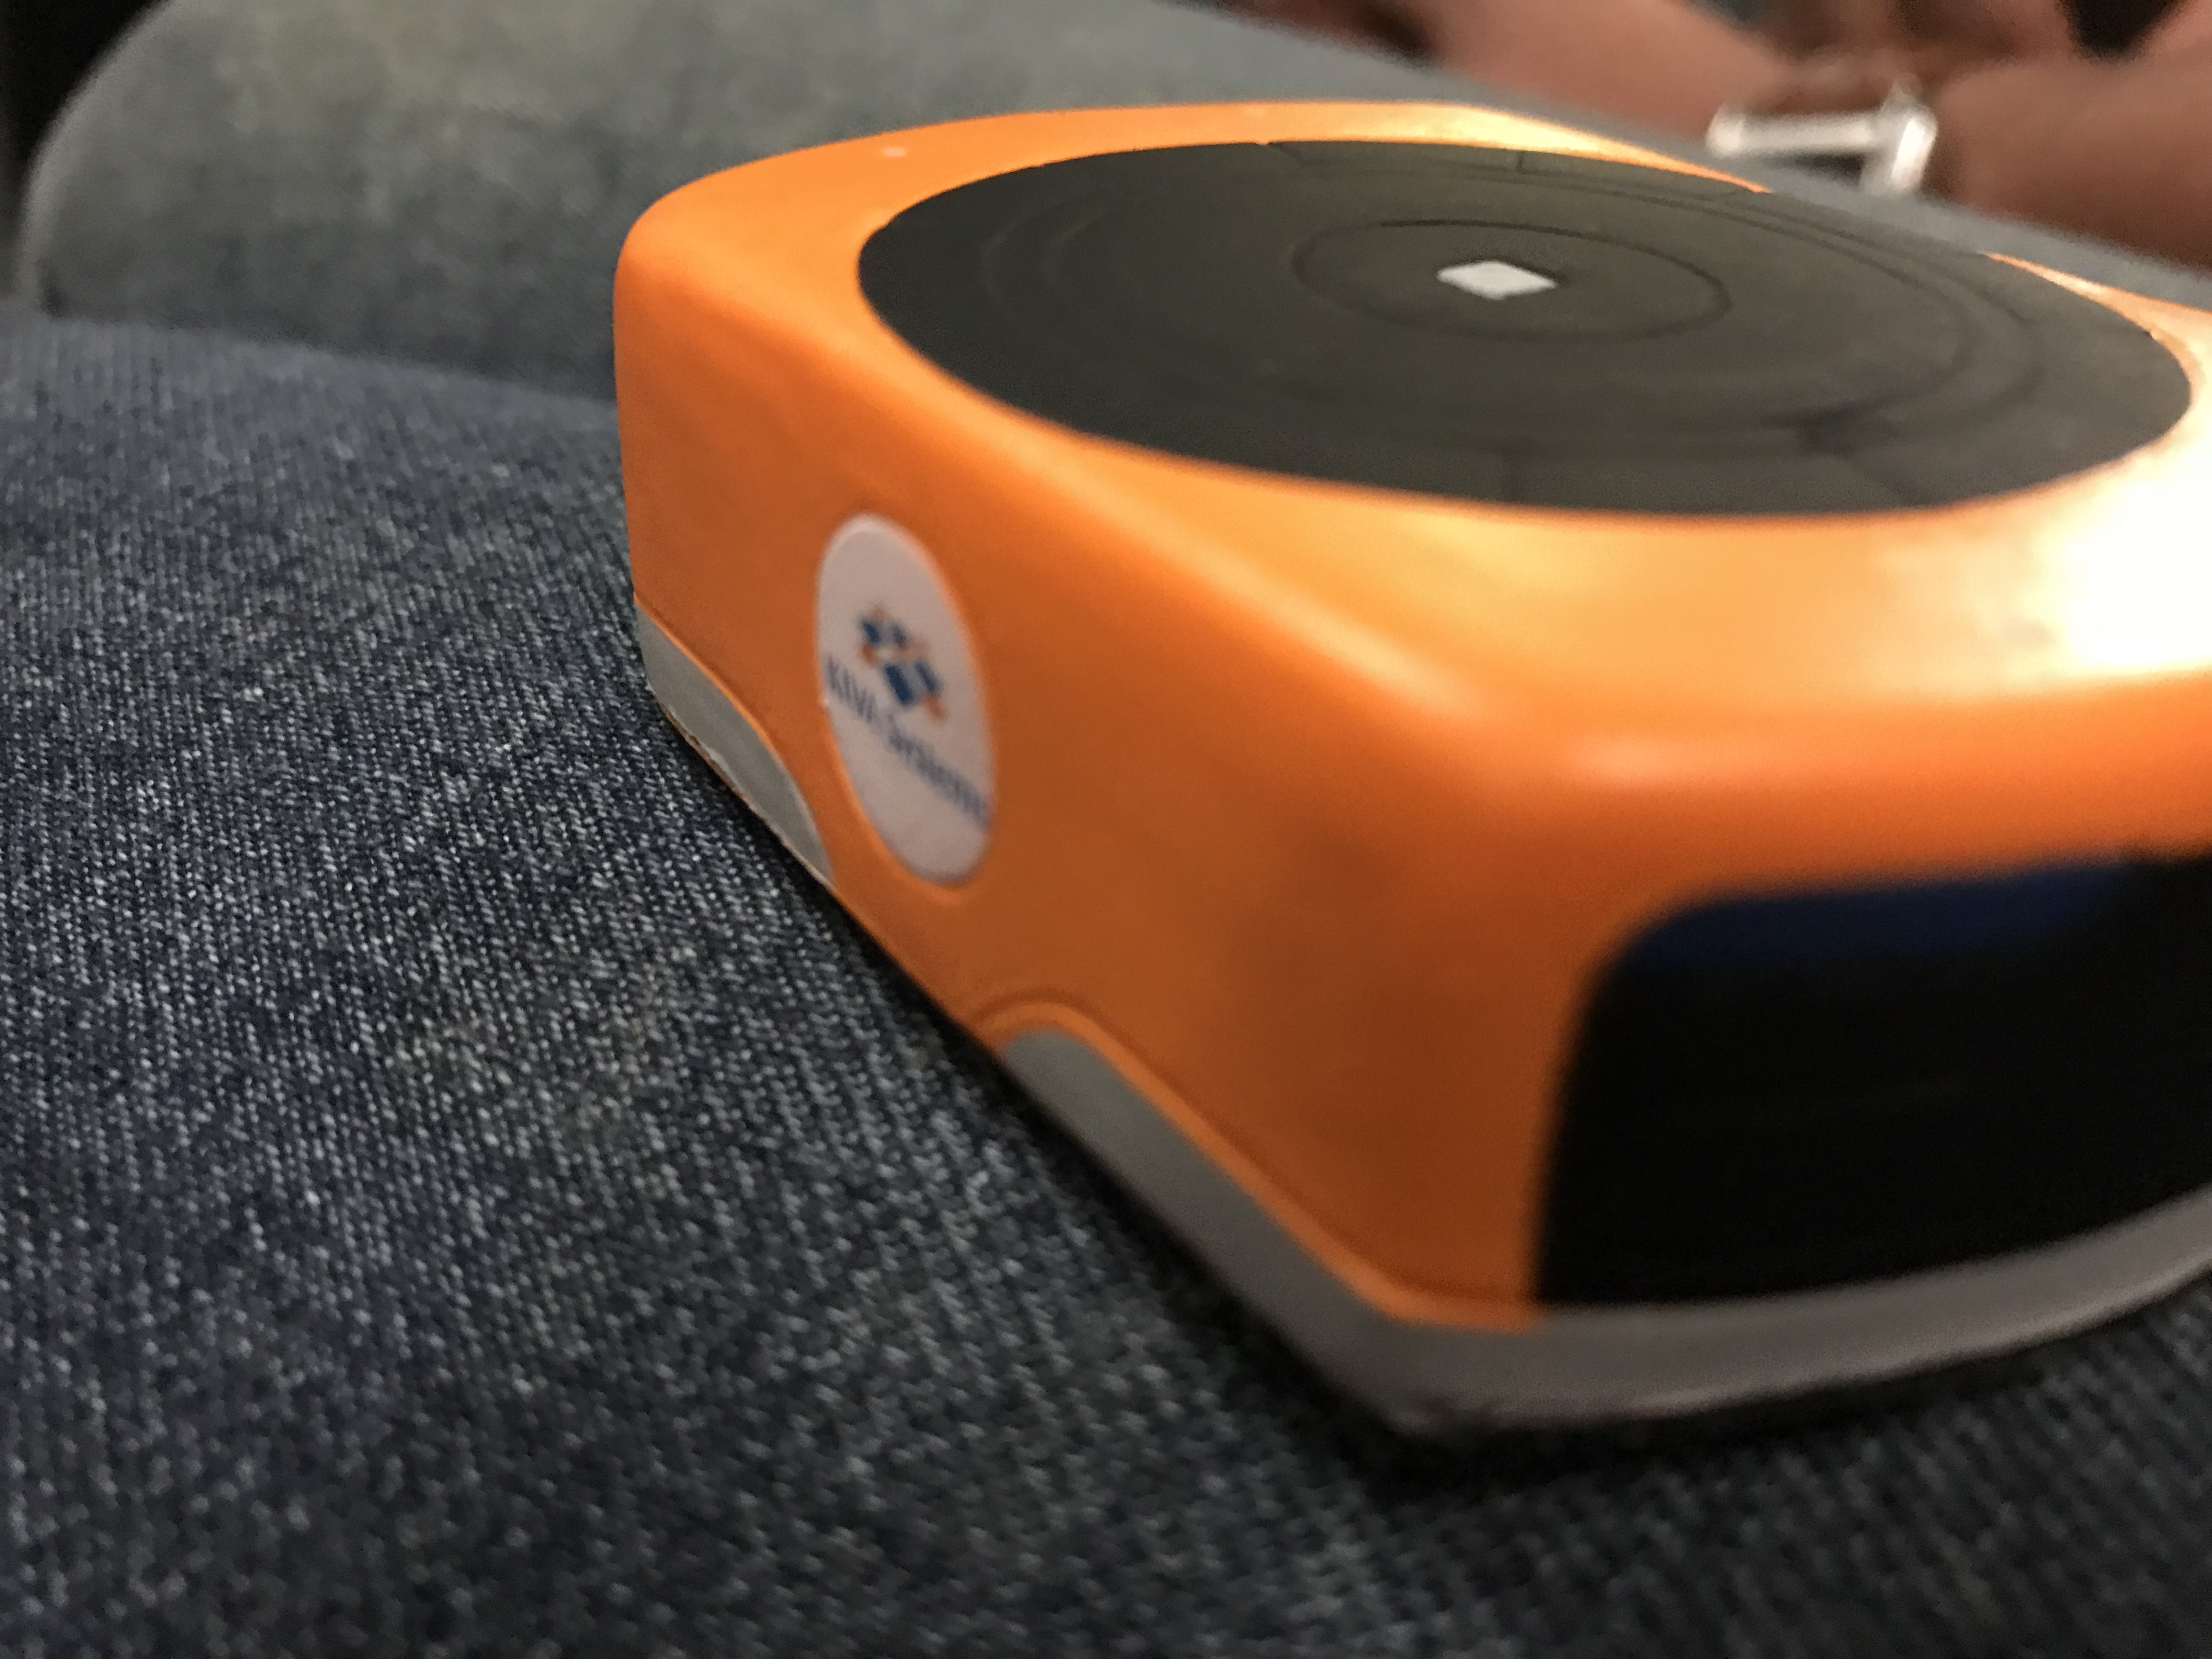amazon_bot: (582, 78, 2212, 1446)
